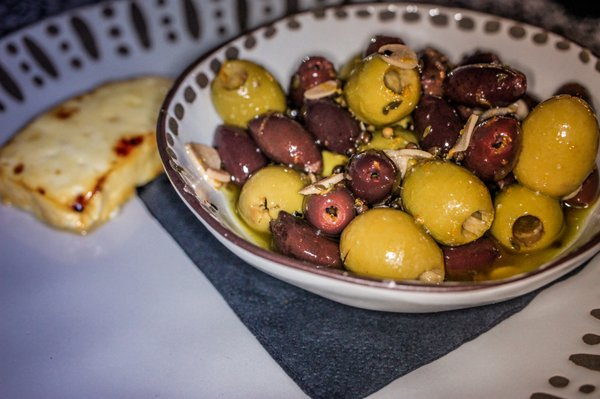sushi: (156, 3, 599, 318)
